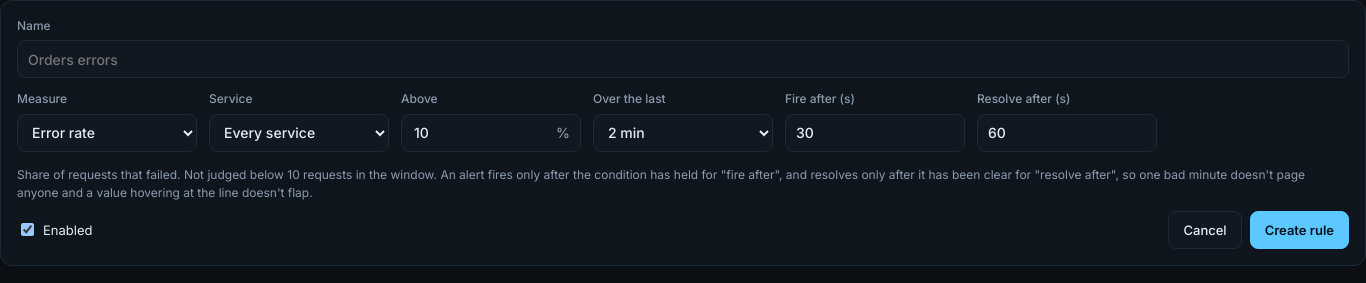
Test case: rule form › has no threshold for 'unavailable': the window is the condition
The width and height of the screenshot is (1366, 283).
Step 1. Select "Unavailable" in the dropdown labelled "Measure" → (107, 133), box [17,114,197,152]
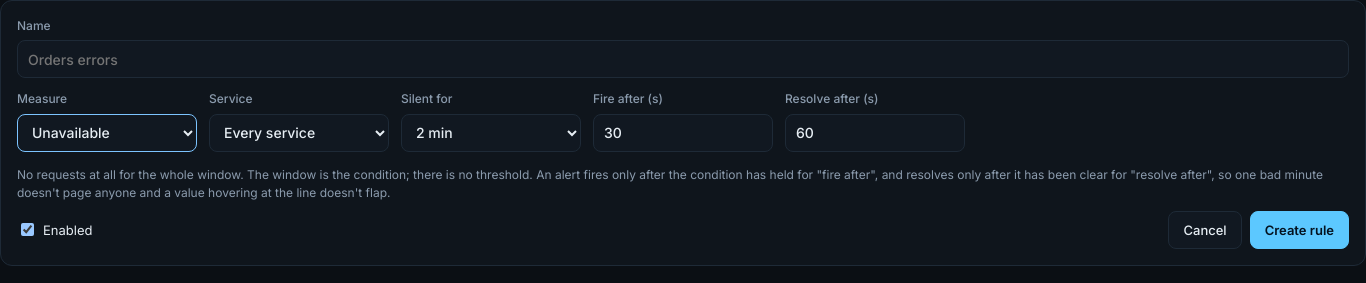
Expected: the dropdown labelled "Silent for" is shown, [401,114,581,152]
Result: the label labelled "Above" is gone
